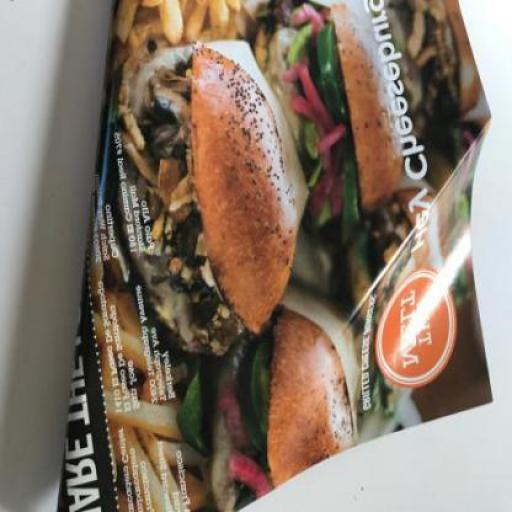paper: (57, 0, 494, 511)
